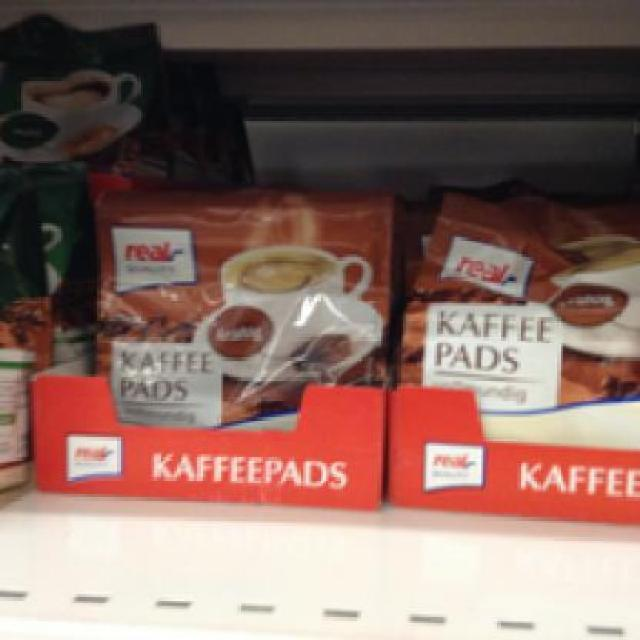Coffee: (82, 183, 388, 423), (392, 186, 638, 446)
